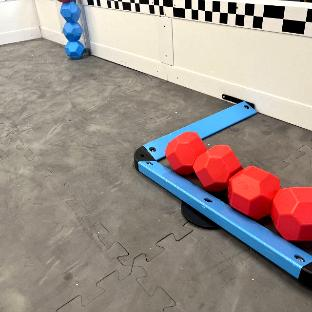Parking - Part: (135, 102, 312, 282)
V5_BLUE: (60, 0, 84, 58)
V5_RED: (164, 131, 312, 242)
